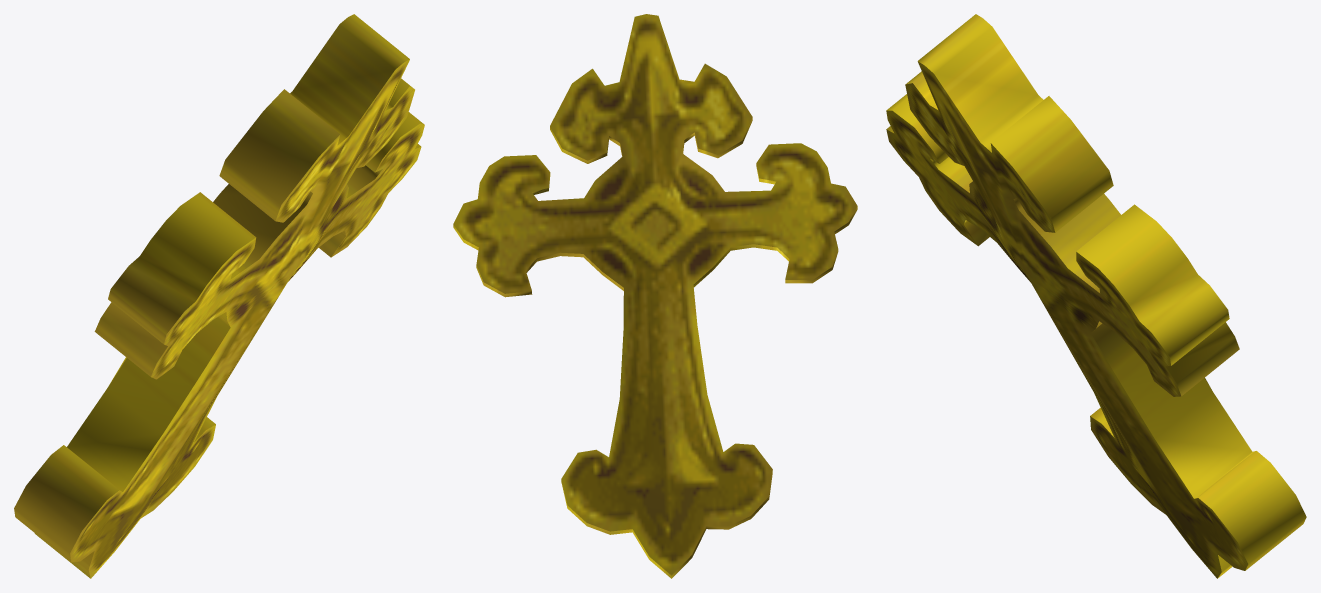
Rendered from mcard.ico.obj.
3 renders of one model, left to right at view 1: azimuth 30°, elevation 25°; view 2: azimuth 150°, elevation 25°; view 3: azimuth 270°, elevation 25°, orthographic. The views are drawn at different scales.
Bounding box in the file's own units: 3.25 × 4.57 × 2.75.
1 material, 1 textured.
